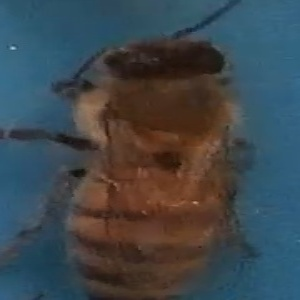bee: (42, 27, 268, 300)
